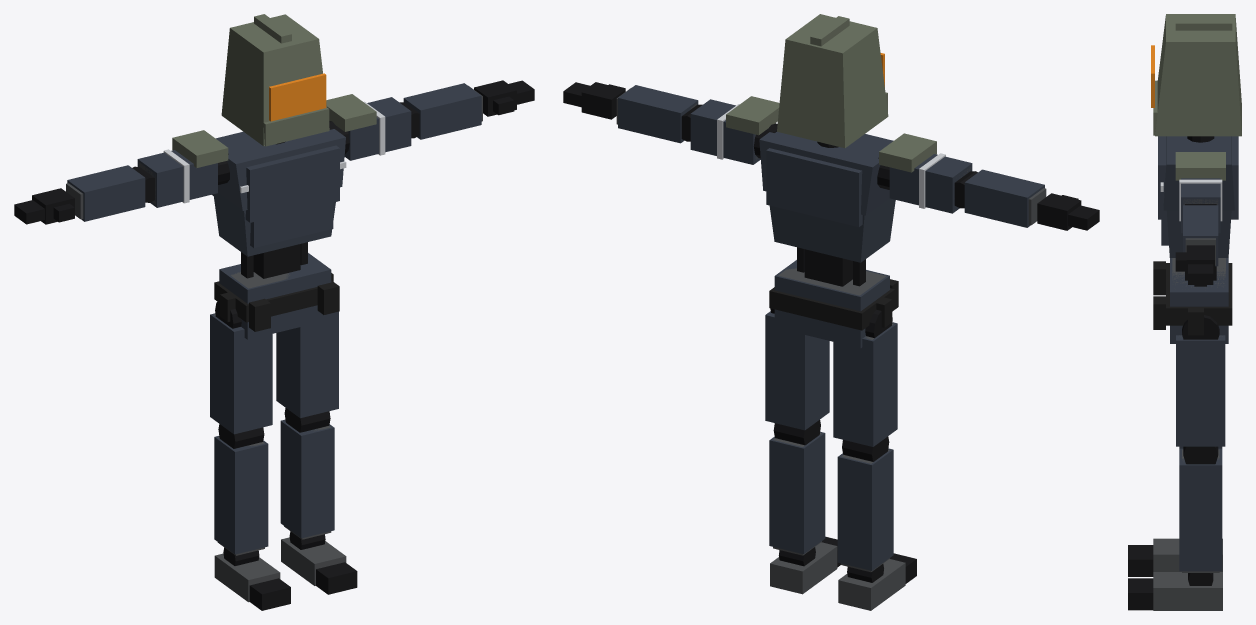
Rendered from char_F1_security.obj.
3 views of the same model, side by side, from view 1: azimuth 30°, elevation 25°; view 2: azimuth 150°, elevation 25°; view 3: azimuth 270°, elevation 25° (orthographic). The views are drawn at different scales.
Visible parts, largest first — view 1: Coverall_Security, ChassisJoints, Helmet_Combat, Vest_Light, Chassis, Belt_Combat, Pauldrons_Light, Helmet_Combat_Visor, Coverall_Security_Stripe; view 2: Coverall_Security, Helmet_Combat, ChassisJoints, Chassis, Vest_Light, Pauldrons_Light, Belt_Combat, Coverall_Security_Stripe; view 3: Coverall_Security, Helmet_Combat, ChassisJoints, Chassis, Belt_Combat, Pauldrons_Light, Vest_Light, Coverall_Security_Stripe, Helmet_Combat_Visor.
Part boxes in pixels (<box>): Coverall_Security: <box>67,83,481,554</box>; ChassisJoints: <box>14,80,534,610</box>; Helmet_Combat: <box>221,14,329,146</box>; Vest_Light: <box>212,145,339,247</box>; Chassis: <box>66,85,482,602</box>; Belt_Combat: <box>214,273,339,331</box>; Pauldrons_Light: <box>172,94,376,167</box>; Helmet_Combat_Visor: <box>269,73,326,121</box>; Coverall_Security_Stripe: <box>163,101,385,203</box>; Coverall_Security: <box>618,85,1044,570</box>; Helmet_Combat: <box>777,14,888,148</box>; ChassisJoints: <box>563,82,1099,583</box>; Chassis: <box>616,88,1046,610</box>; Vest_Light: <box>766,148,862,227</box>; Pauldrons_Light: <box>726,96,936,172</box>; Belt_Combat: <box>769,279,898,330</box>; Coverall_Security_Stripe: <box>717,104,945,208</box>; Coverall_Security: <box>1163,136,1234,571</box>; Helmet_Combat: <box>1153,14,1241,136</box>; ChassisJoints: <box>1128,136,1219,610</box>; Chassis: <box>1153,199,1225,610</box>; Belt_Combat: <box>1153,261,1232,335</box>; Pauldrons_Light: <box>1175,152,1225,180</box>; Vest_Light: <box>1158,136,1238,245</box>; Coverall_Security_Stripe: <box>1160,179,1222,221</box>; Helmet_Combat_Visor: <box>1151,45,1154,107</box>.
Bounding box in the file's own units: 1.92 × 1.98 × 0.36.
